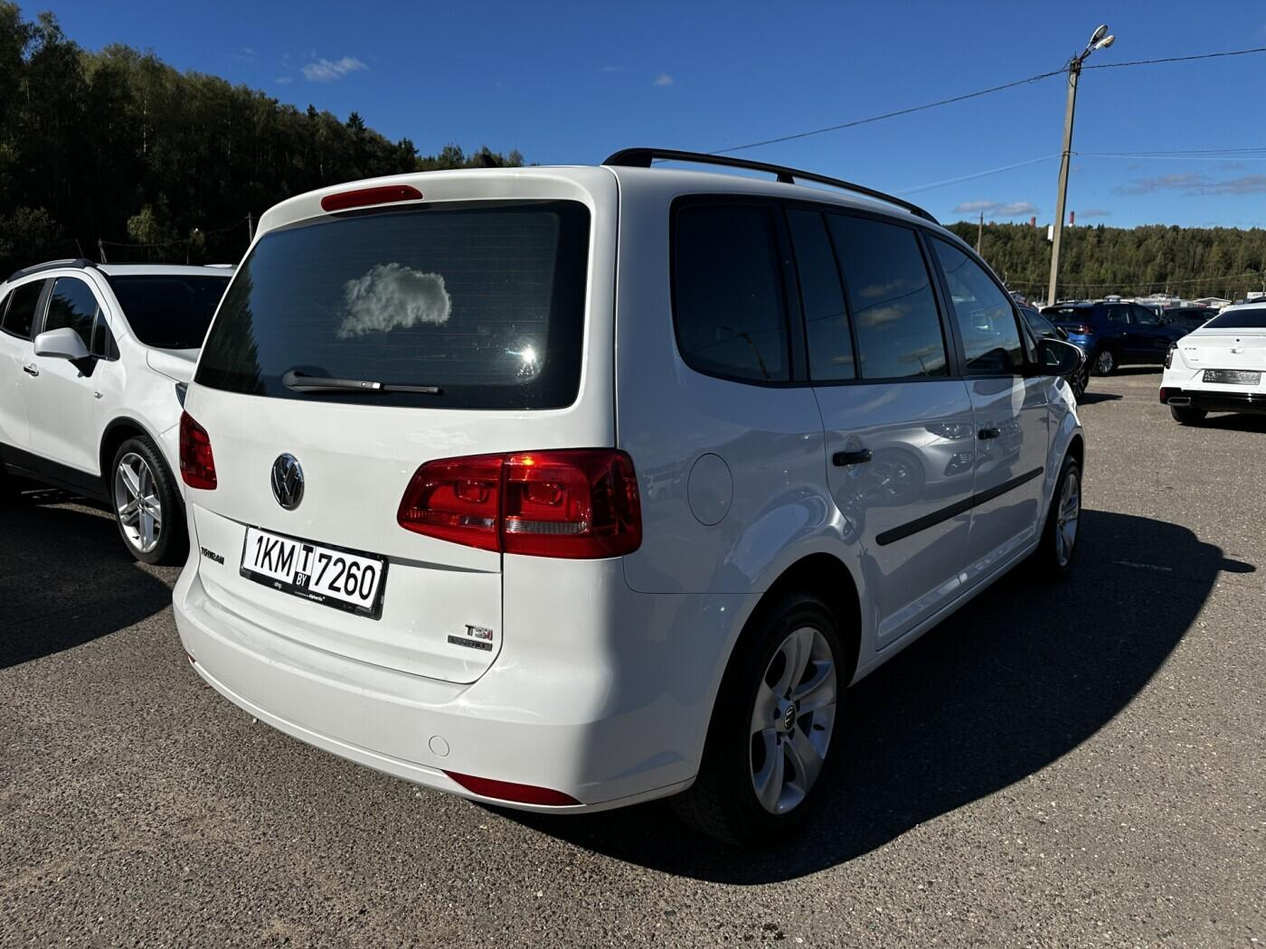Touran_2010-2015: (164, 158, 1102, 822)
